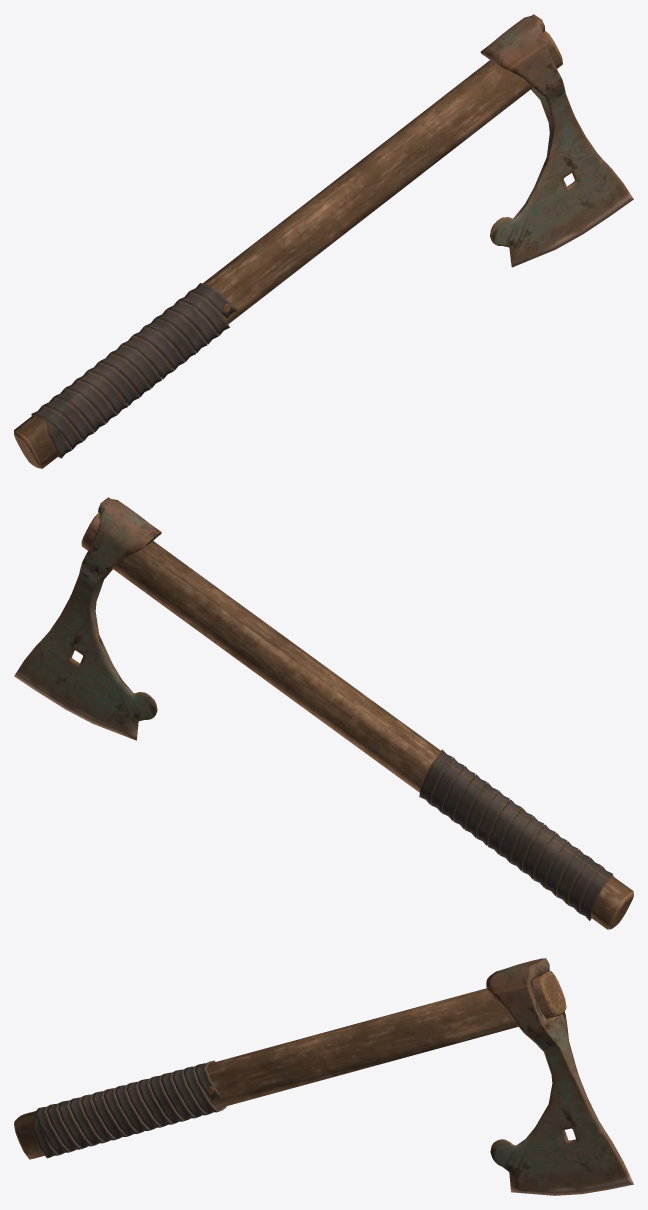
Rendered from axe.glb.
3 renders of one model, top to bottom at view 1: azimuth 30°, elevation 25°; view 2: azimuth 150°, elevation 25°; view 3: azimuth 330°, elevation 25°, orthographic. The views are drawn at different scales.
Parts seen in each view (by area): view 1: handle.002; view 2: handle.002; view 3: handle.002.
Boxes of the visible parts, bbox=[...] form: handle.002: bbox=[14, 14, 633, 468]; handle.002: bbox=[14, 497, 633, 929]; handle.002: bbox=[14, 958, 633, 1195].
Bounding box in the file's own units: 0.5527 × 0.271 × 0.044.
Materials: 1 (1 with a texture image).
